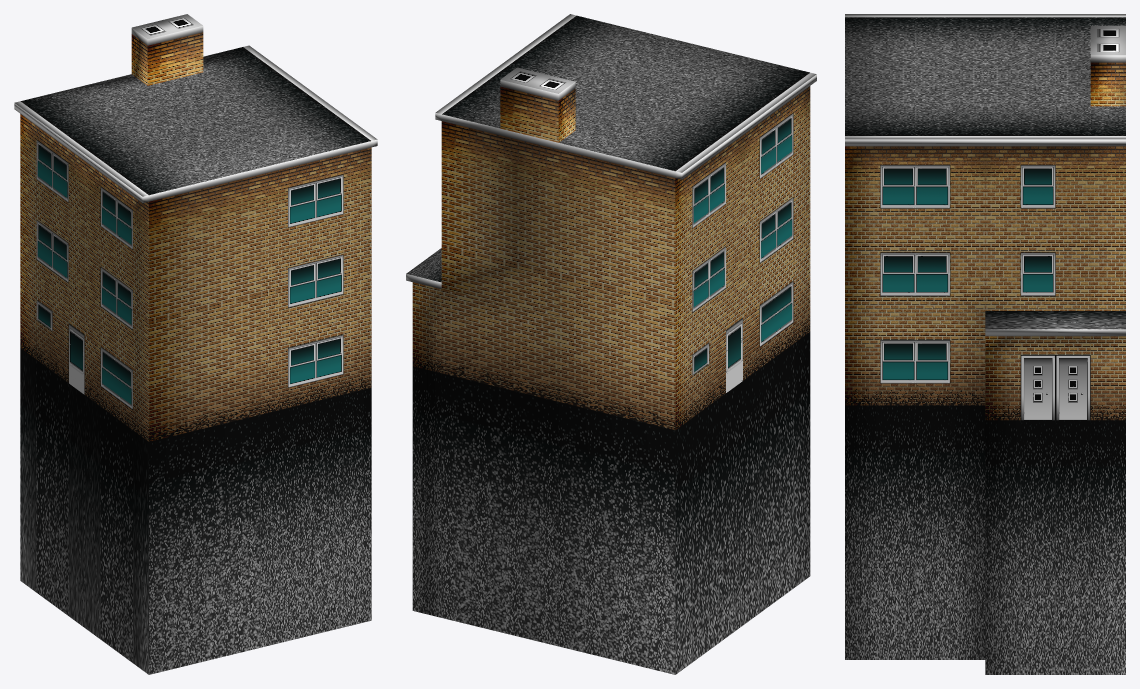
The model's file is maisonet_mod1_1b.fbx.
The picture shows the model from 3 angles, left to right: view 1: azimuth 30°, elevation 25°; view 2: azimuth 150°, elevation 25°; view 3: azimuth 270°, elevation 25°; orthographic projection. The views are drawn at different scales.
Parts seen in each view (by area): view 1: maisonet_mod1_1b; view 2: maisonet_mod1_1b; view 3: maisonet_mod1_1b.
Part boxes in pixels (<box>): maisonet_mod1_1b: <box>14,14,377,674</box>; maisonet_mod1_1b: <box>406,14,816,674</box>; maisonet_mod1_1b: <box>845,14,1125,674</box>.
Size of the model in its own units: 1062 by 2033 by 900.
